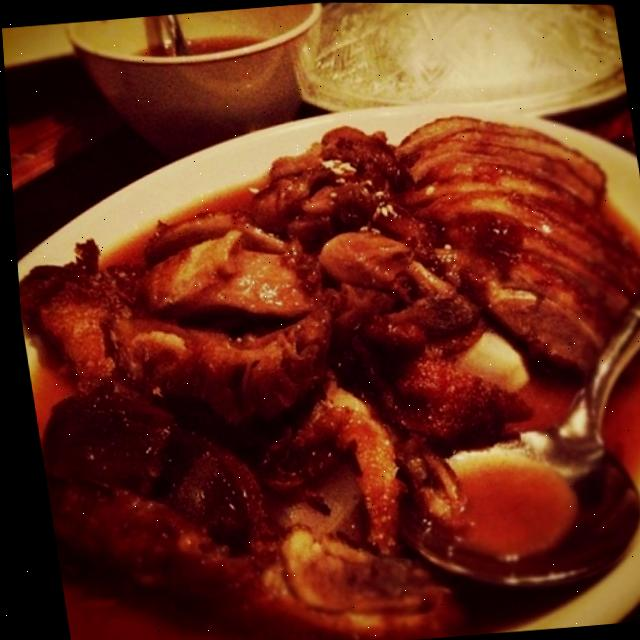烧串烤肉: (2, 46, 640, 640)
